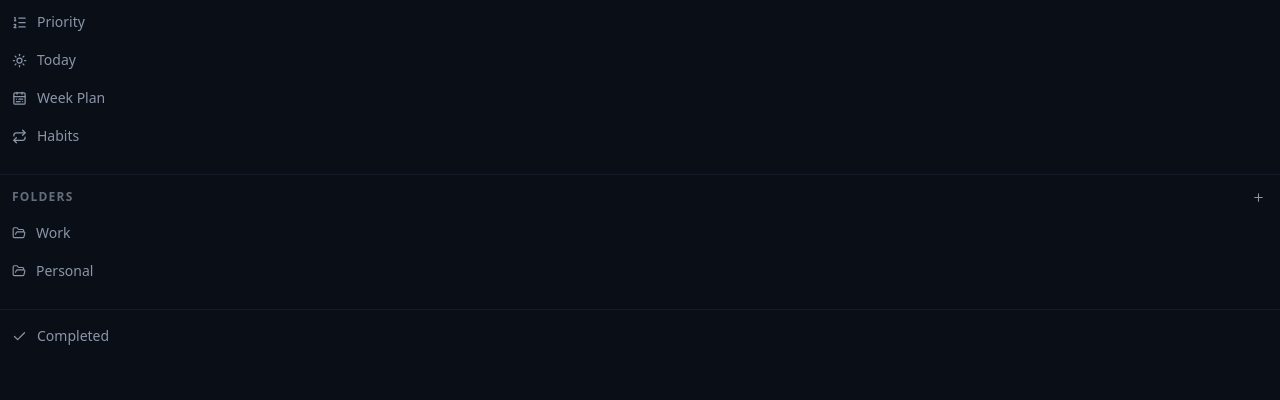
FolderNav › shows the new folder form when the create button is clicked
Click the button named "create folder" at (1258, 197), box [1248,187,1268,207]
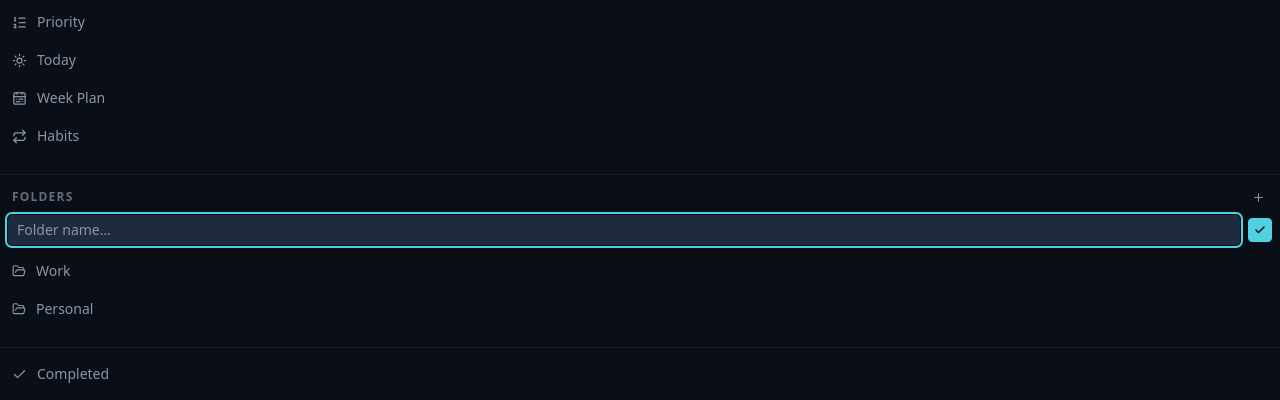
expect the field with placeholder "Folder name…" is shown: met, box [8,215,1240,245]
